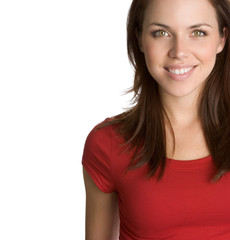teen: (122, 2, 227, 112)
